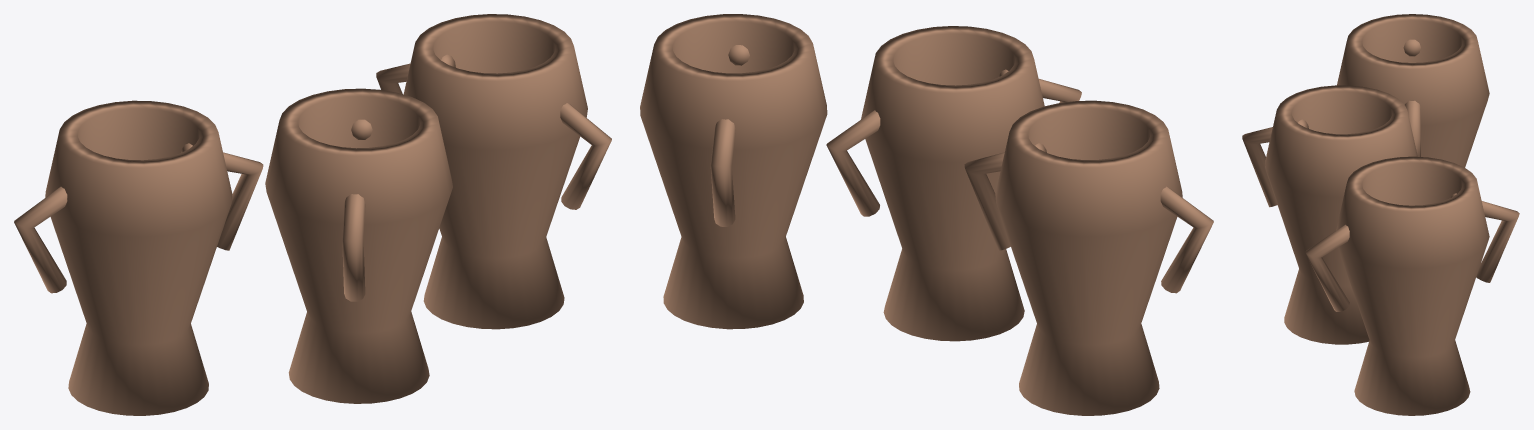
File: underwater-reef-worlds-amphora-pile-d7071fd2__7064.glb
3 renders of one model, left to right at view 1: azimuth 30°, elevation 25°; view 2: azimuth 150°, elevation 25°; view 3: azimuth 270°, elevation 25°, orthographic. The views are drawn at different scales.
Visible parts, largest first — view 1: amphora-pile; view 2: amphora-pile; view 3: amphora-pile.
Boxes of the visible parts, left/top/right/bottom form: amphora-pile: left=14, top=14, right=611, bottom=415; amphora-pile: left=640, top=14, right=1213, bottom=415; amphora-pile: left=1242, top=14, right=1519, bottom=415.
Size of the model in its own units: 1.51 by 0.65 by 0.7895.
